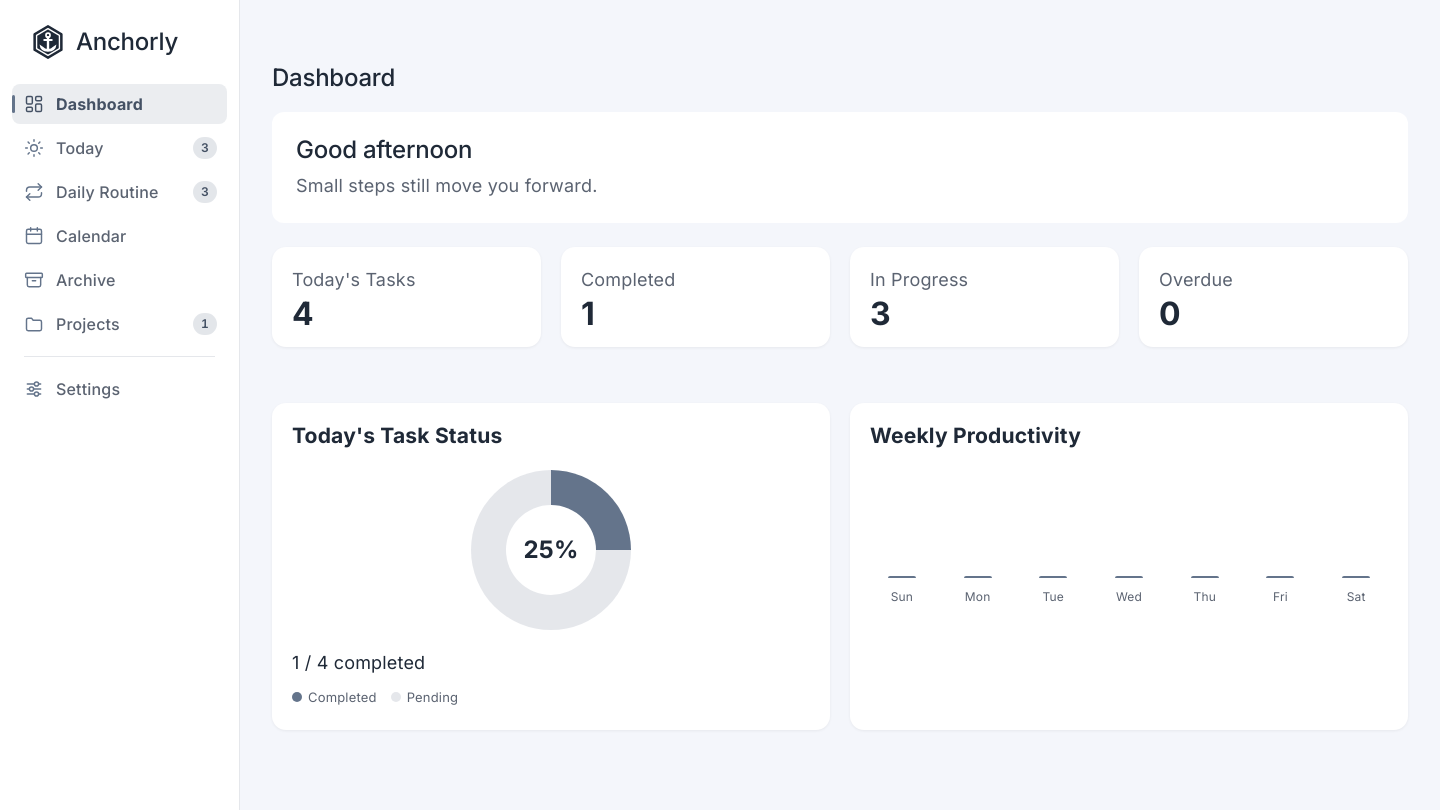
it: App routing › moves between pages with the sidebar links
The width and height of the screenshot is (1440, 810).
Click the link "Today 3". click: (80, 148)
box: [24,137,217,159]
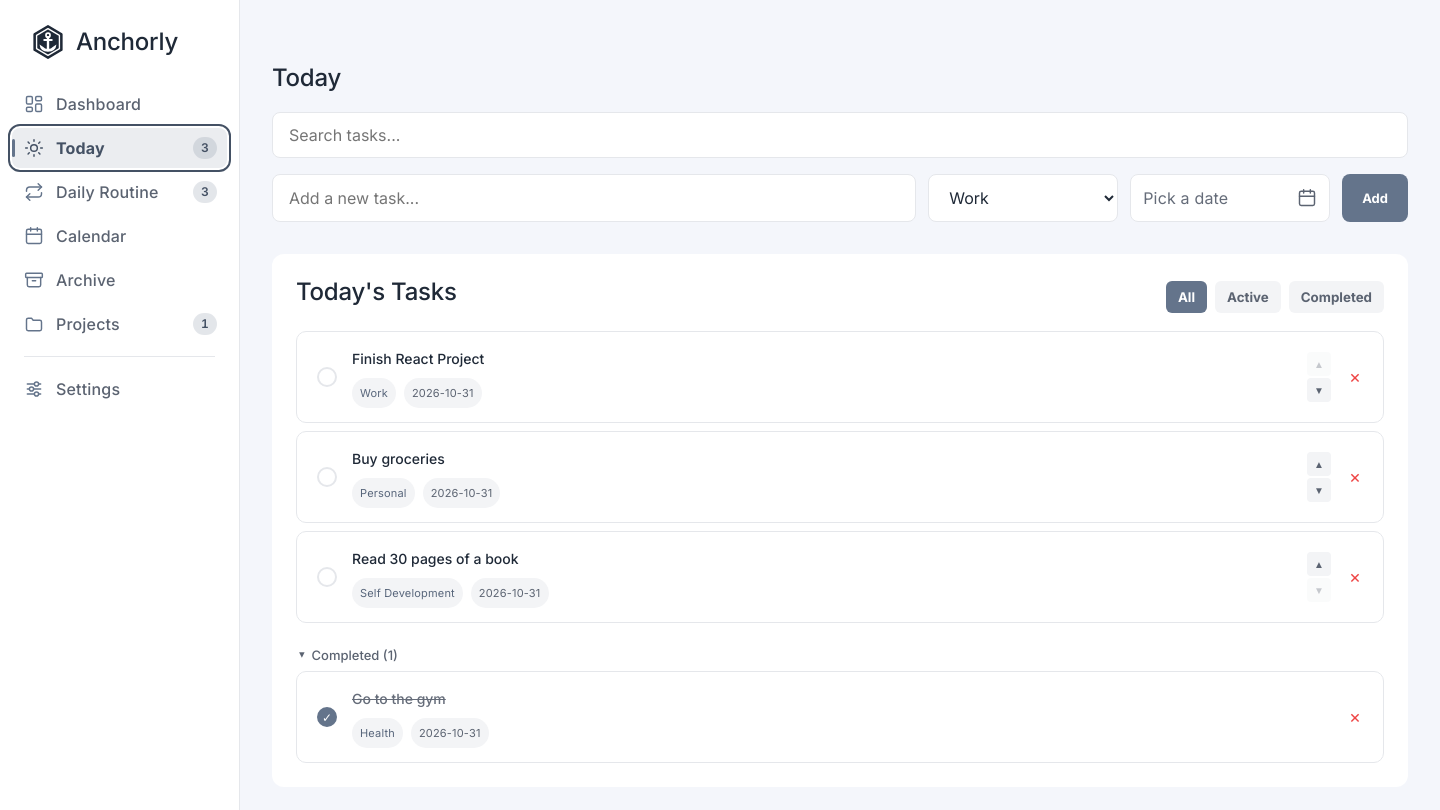
Now the heading "Today" is shown, box [272,63,341,92]
Click the link "Calendar". click: (75, 236)
box: [24,226,126,246]
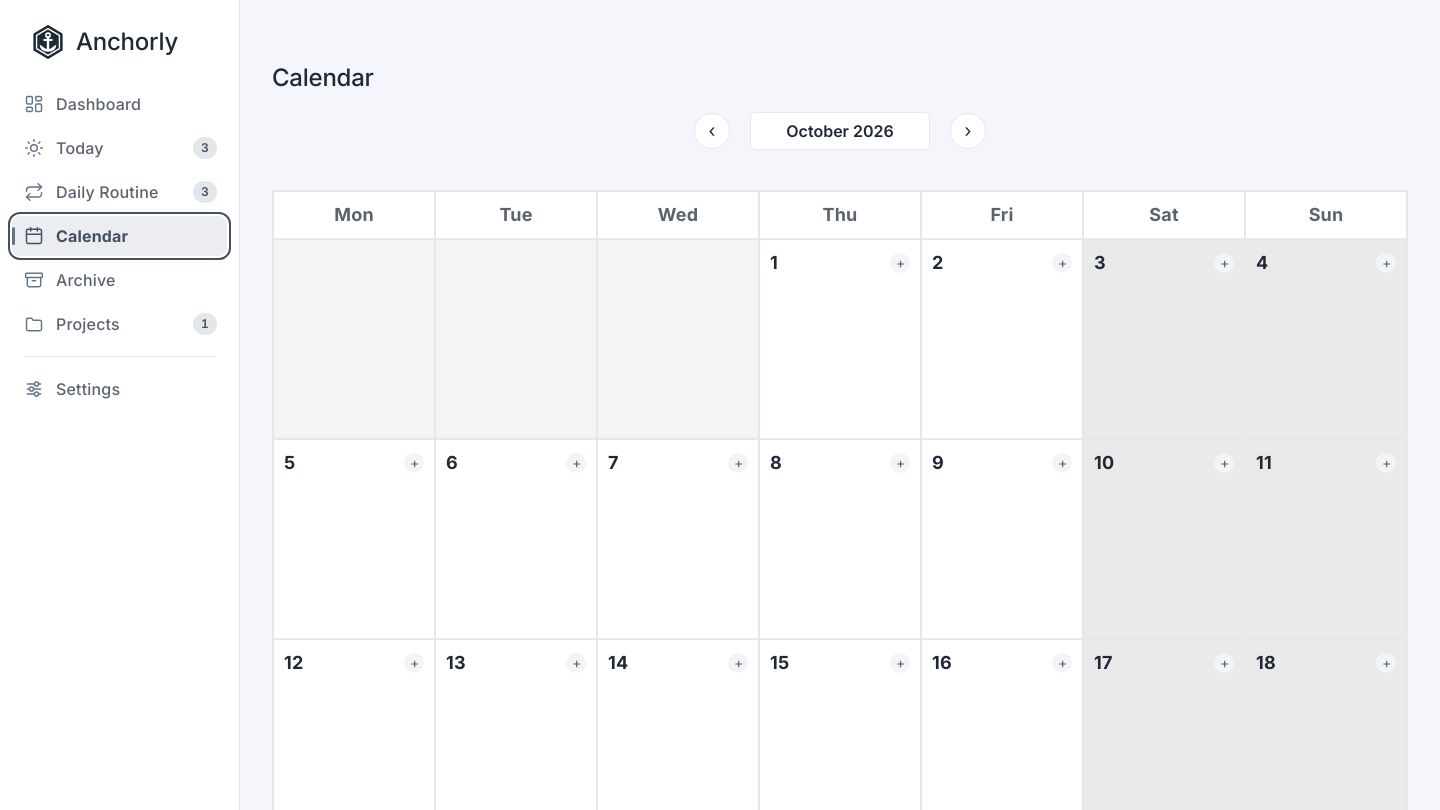
Now the heading "Calendar" is shown, box [272,63,374,92]
